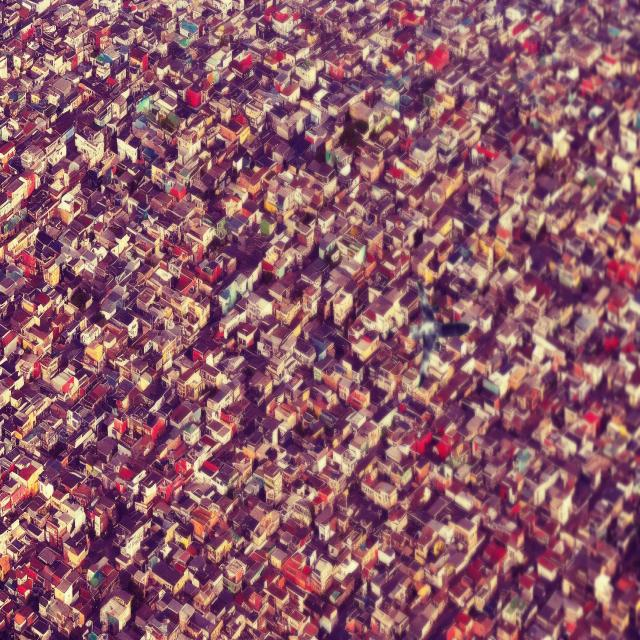airplane: (402, 279, 470, 388)
